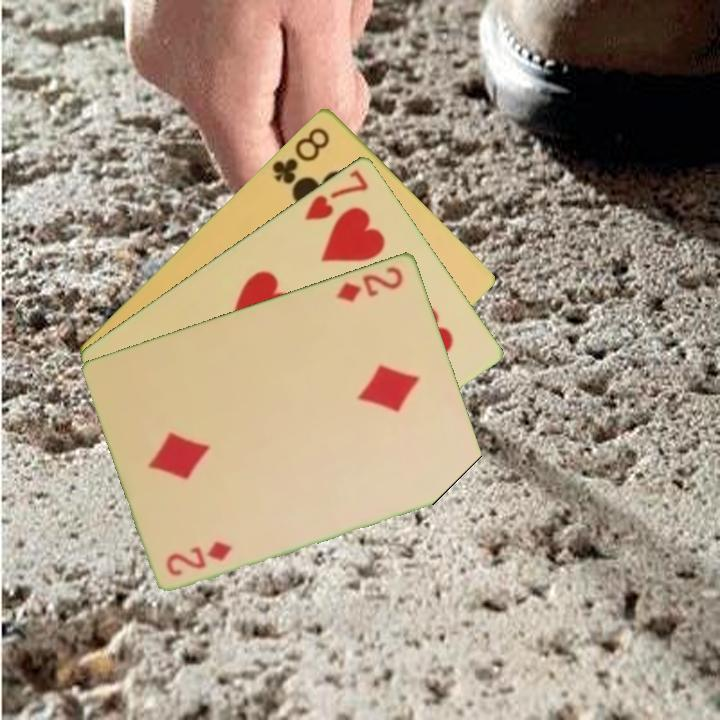2d: (333, 262, 407, 305), (162, 537, 235, 579)
7h: (301, 165, 372, 223)
8c: (268, 123, 333, 187)
